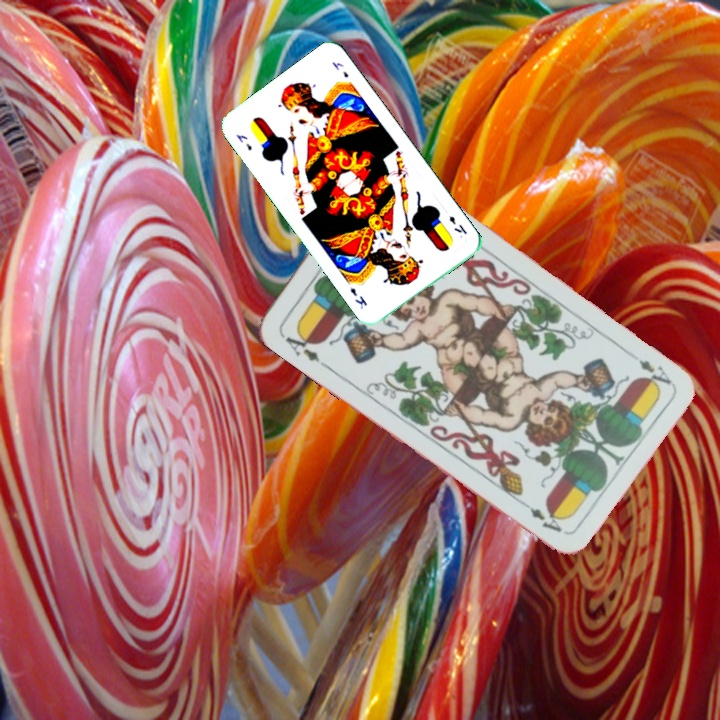EA: (277, 324, 329, 370), (635, 355, 674, 393)
EK: (445, 211, 470, 237), (232, 130, 254, 153)
